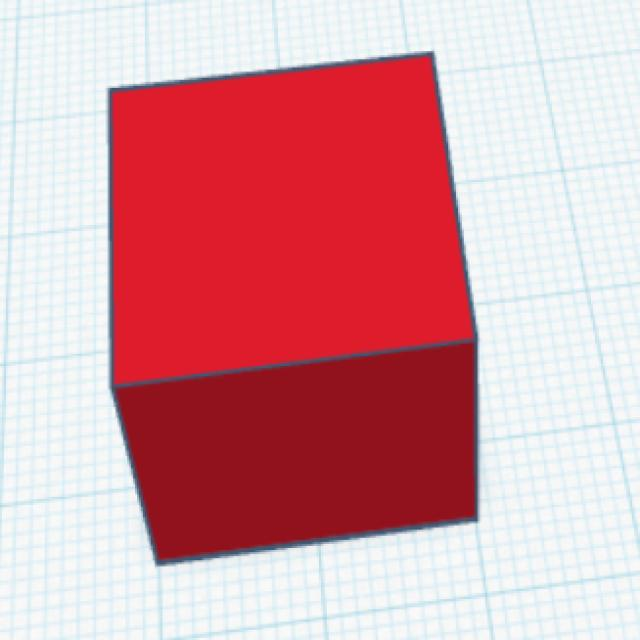cube: (106, 54, 483, 571)
